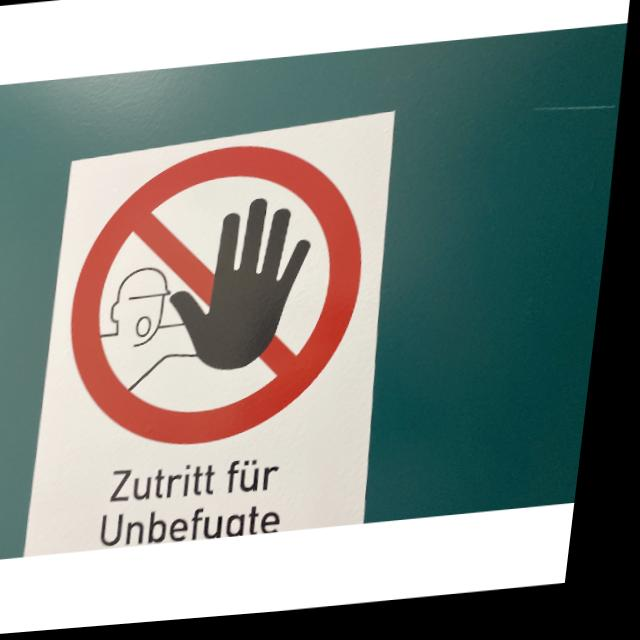No access for unauthorized persons: (63, 137, 384, 460)
